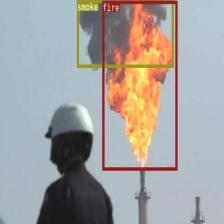fire: (102, 0, 177, 170)
smoke: (76, 0, 173, 66)
